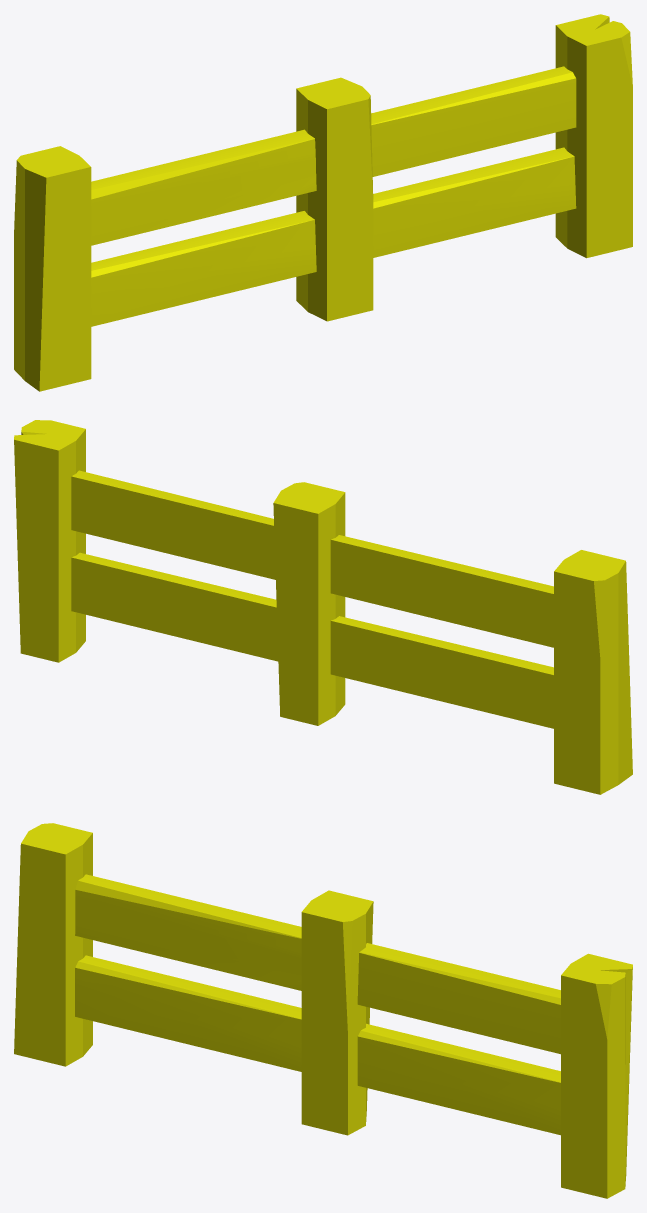
3 renders of one model, top to bottom at view 1: azimuth 30°, elevation 25°; view 2: azimuth 150°, elevation 25°; view 3: azimuth 330°, elevation 25°, orthographic.
Visible parts, largest first — view 1: fence; view 2: fence; view 3: fence.
Boxes of the visible parts, left/top/right/bottom form: fence: left=14, top=14, right=632, bottom=391; fence: left=14, top=420, right=632, bottom=794; fence: left=14, top=823, right=632, bottom=1198.
Bounding box in the file's own units: 4.21 × 1.43 × 0.3545.
1 material, 1 textured.
